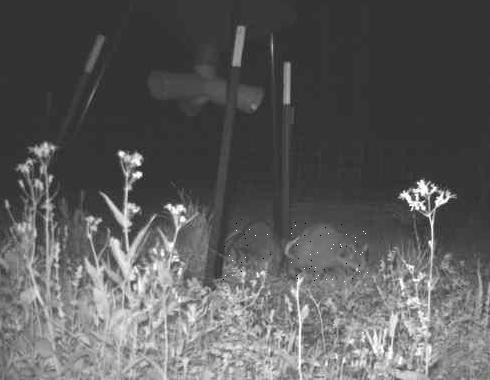Raccoon: (289, 223, 368, 283), (222, 218, 273, 284)
